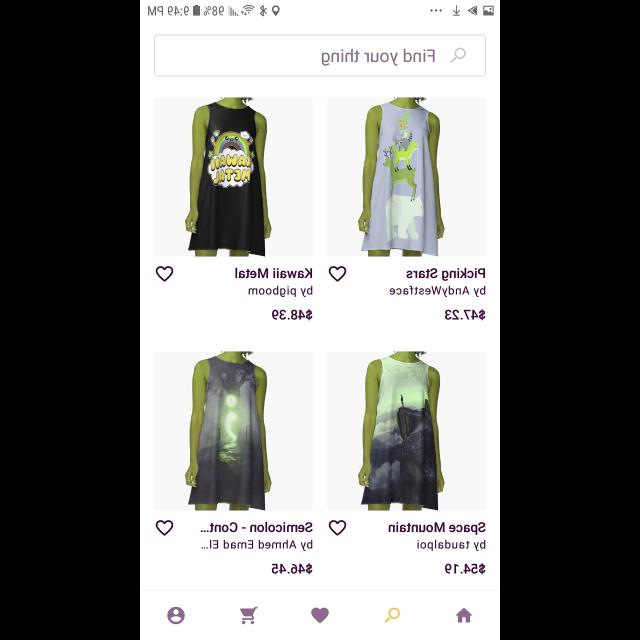icon: (240, 607, 258, 625), (167, 607, 185, 625), (328, 520, 346, 536), (155, 520, 173, 536), (328, 266, 346, 282), (311, 608, 329, 624), (156, 266, 172, 282), (450, 48, 466, 64), (455, 608, 471, 624), (384, 608, 400, 622)
image: (154, 352, 314, 511), (327, 352, 485, 512), (154, 99, 312, 258), (327, 99, 485, 258)
input: (154, 35, 486, 77)
text: (200, 522, 312, 550), (388, 522, 486, 552), (389, 267, 485, 297), (235, 267, 312, 297), (321, 49, 435, 66), (444, 563, 486, 575), (272, 309, 312, 321), (444, 309, 484, 321), (272, 564, 312, 574)
uppertaskbar: (140, 1, 500, 17)
